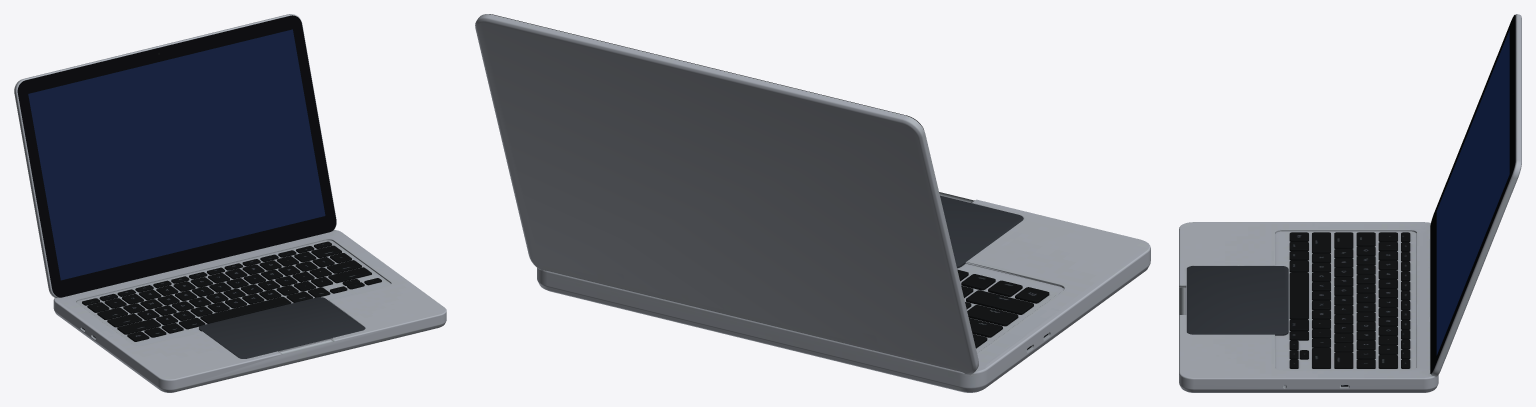
The model's file is laptop.glb.
The picture shows the model from 3 angles, left to right: view 1: azimuth 30°, elevation 25°; view 2: azimuth 150°, elevation 25°; view 3: azimuth 270°, elevation 25°; orthographic projection. The views are drawn at different scales.
Parts seen in each view (by area): view 1: Laptop_Screen, Laptop_Base, Laptop_Bezel, Laptop_Keys, Laptop_Trackpad, Laptop_Lid; view 2: Laptop_Lid, Laptop_Base, Laptop_Keys, Laptop_Trackpad; view 3: Laptop_Base, Laptop_Keys, Laptop_Screen, Laptop_Trackpad, Laptop_Bezel, Laptop_Lid.
Part boxes in pixels (x1,y1,x2,y2): Laptop_Screen: (28,29,325,280); Laptop_Base: (53,230,446,392); Laptop_Bezel: (17,15,336,297); Laptop_Keys: (82,241,381,341); Laptop_Trackpad: (199,297,365,358); Laptop_Lid: (14,14,336,297); Laptop_Lid: (475,14,978,374); Laptop_Base: (537,192,1150,392); Laptop_Keys: (957,269,1049,348); Laptop_Trackpad: (940,195,1023,268); Laptop_Base: (1179,222,1438,392); Laptop_Keys: (1289,232,1410,368); Laptop_Screen: (1436,30,1509,355); Laptop_Trackpad: (1187,266,1288,335); Laptop_Bezel: (1430,15,1515,373); Laptop_Lid: (1431,14,1521,376).
Size of the model in its own units: 0.31 by 0.2122 by 0.2866.
Materials: 6 (2 with a texture image).
